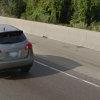Car: (1, 18, 38, 81)
